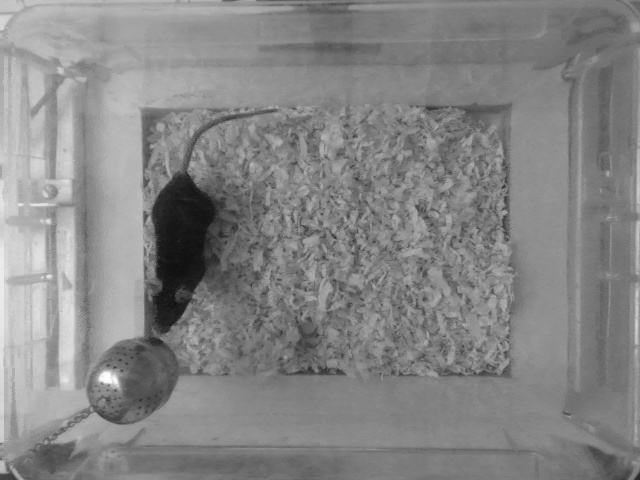mice: (143, 105, 283, 337)
